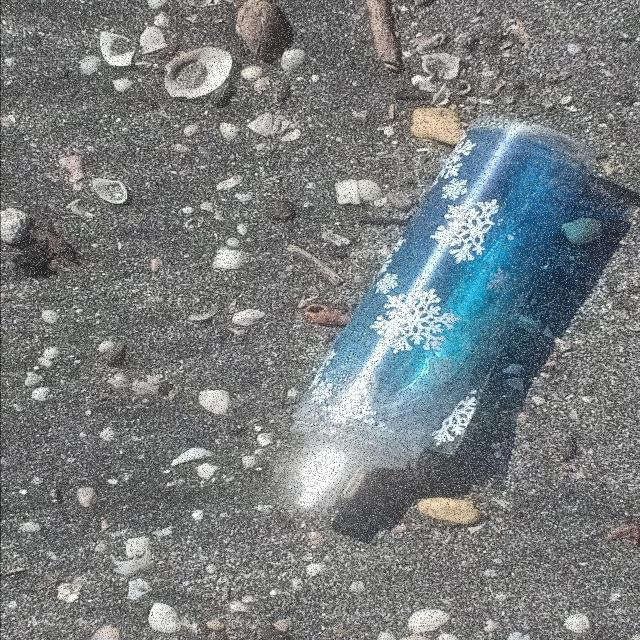plastic_waste: (288, 114, 602, 518)
